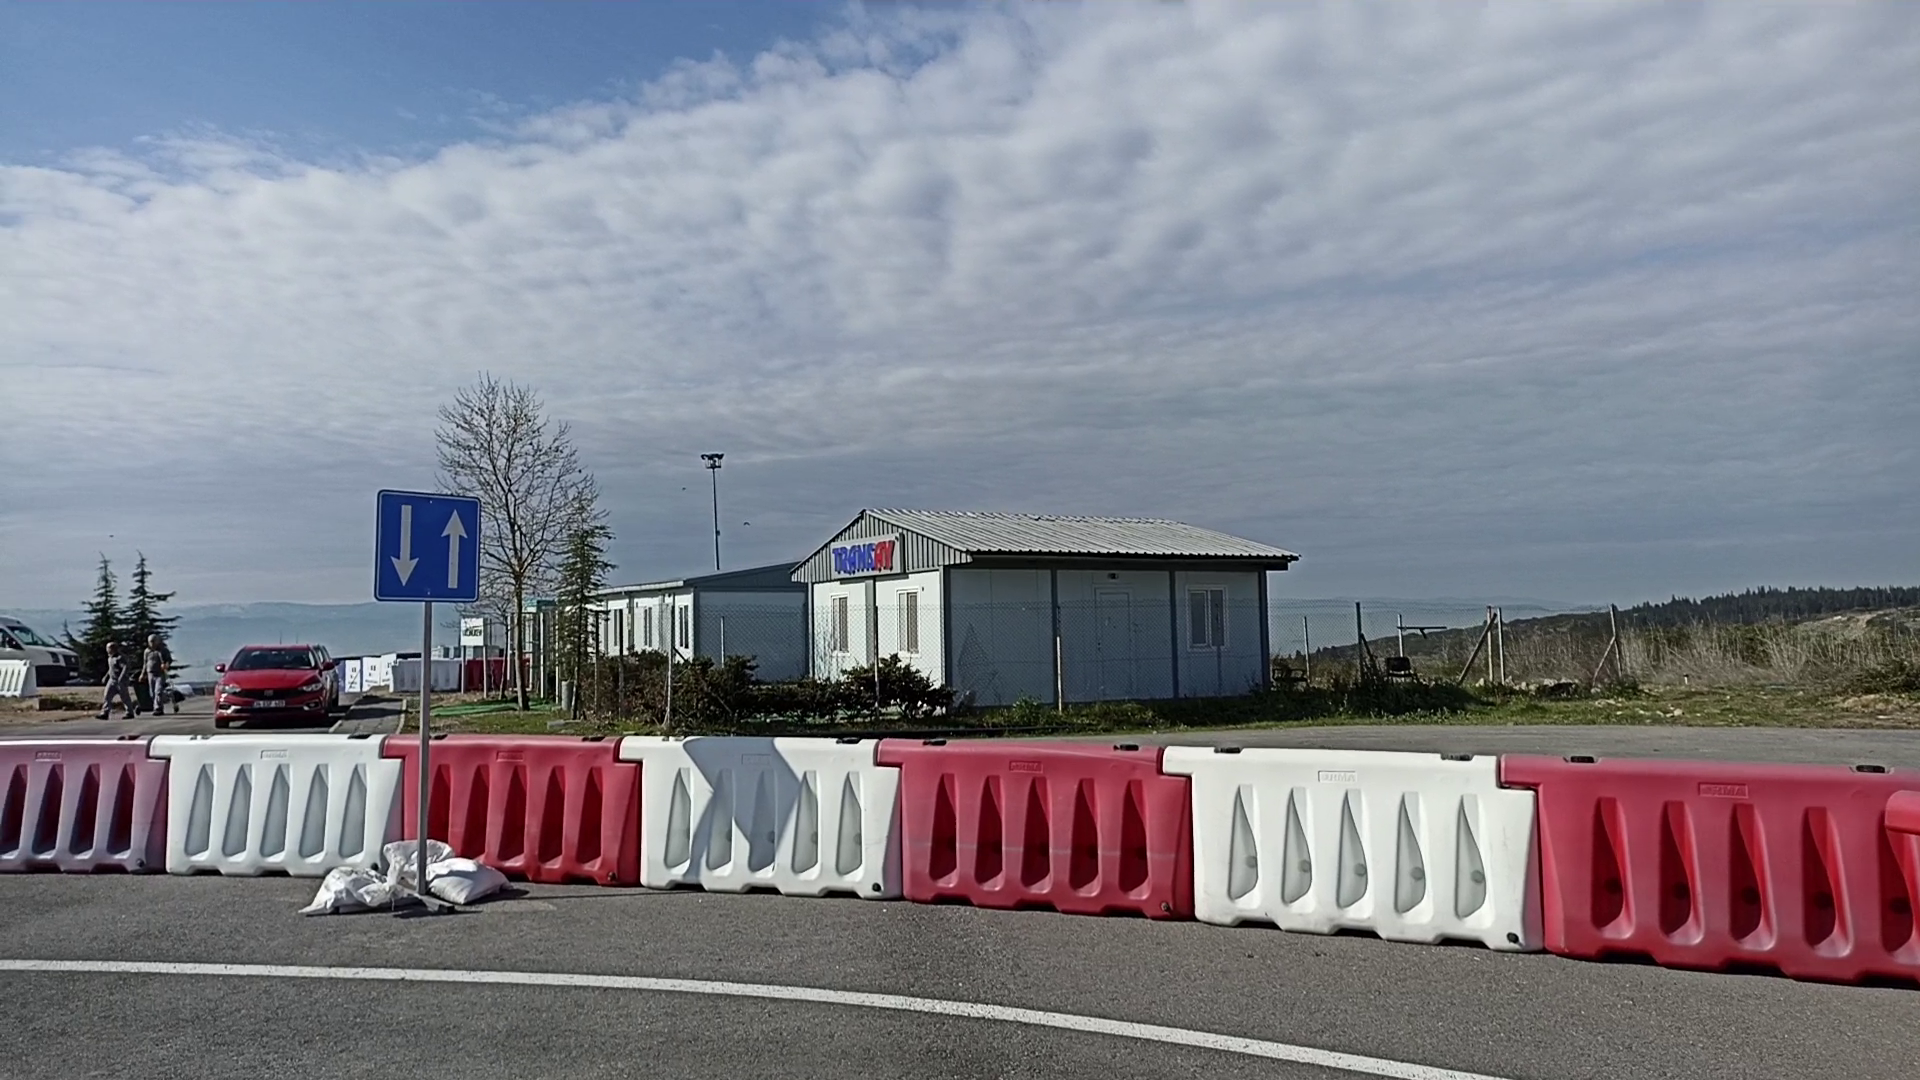oneway: (373, 487, 485, 603)
